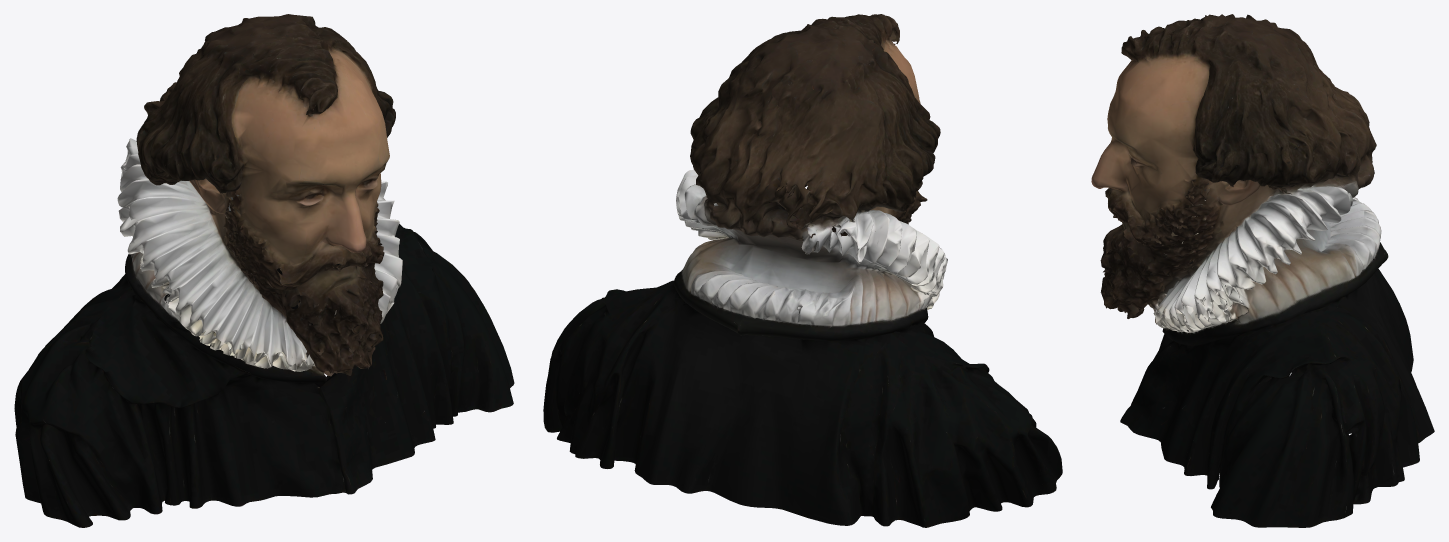
The model's file is andreae.glb.
3 renders of one model, left to right at view 1: azimuth 30°, elevation 25°; view 2: azimuth 150°, elevation 25°; view 3: azimuth 270°, elevation 25°, orthographic. The views are drawn at different scales.
Visible parts, largest first — view 1: geometry_0; view 2: geometry_0; view 3: geometry_0.
Part boxes in pixels (x1,y1,x2,y2): geometry_0: (14,14,514,527); geometry_0: (543,14,1062,527); geometry_0: (1091,14,1434,527).
Size of the model in its own units: 1 by 0.8397 by 0.6624.
1 material, 1 textured.
